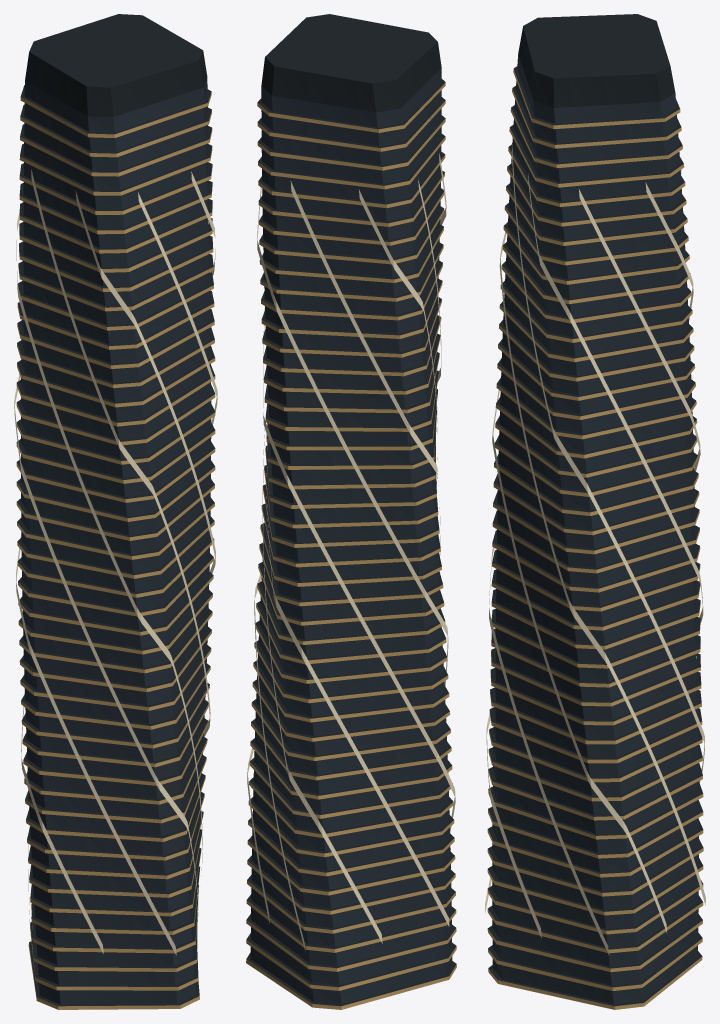
File: one-galle-face-2.glb
3 views of the same model, side by side, from view 1: azimuth 30°, elevation 25°; view 2: azimuth 150°, elevation 25°; view 3: azimuth 270°, elevation 25° (orthographic).
Bounding box in the file's own units: 41.8 × 200 × 43.46.
